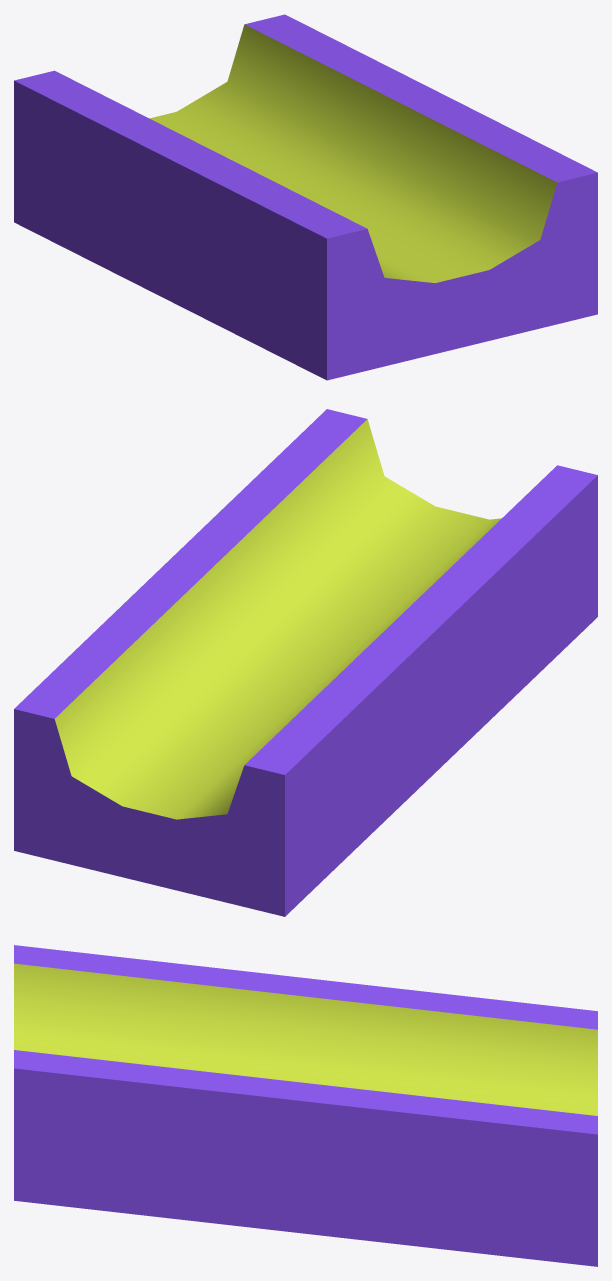
The model's file is slant_long_A.fbx.
The picture shows the model from 3 angles, top to bottom: view 1: azimuth 30°, elevation 25°; view 2: azimuth 150°, elevation 25°; view 3: azimuth 270°, elevation 25°; orthographic projection. The views are drawn at different scales.
Parts seen in each view (by area): view 1: slant_long_A; view 2: slant_long_A; view 3: slant_long_A.
Boxes of the visible parts, bbox=[...] form: slant_long_A: bbox=[14, 14, 597, 380]; slant_long_A: bbox=[14, 409, 597, 916]; slant_long_A: bbox=[14, 945, 597, 1266].
Size of the model in its own units: 10 by 7.5 by 20.
